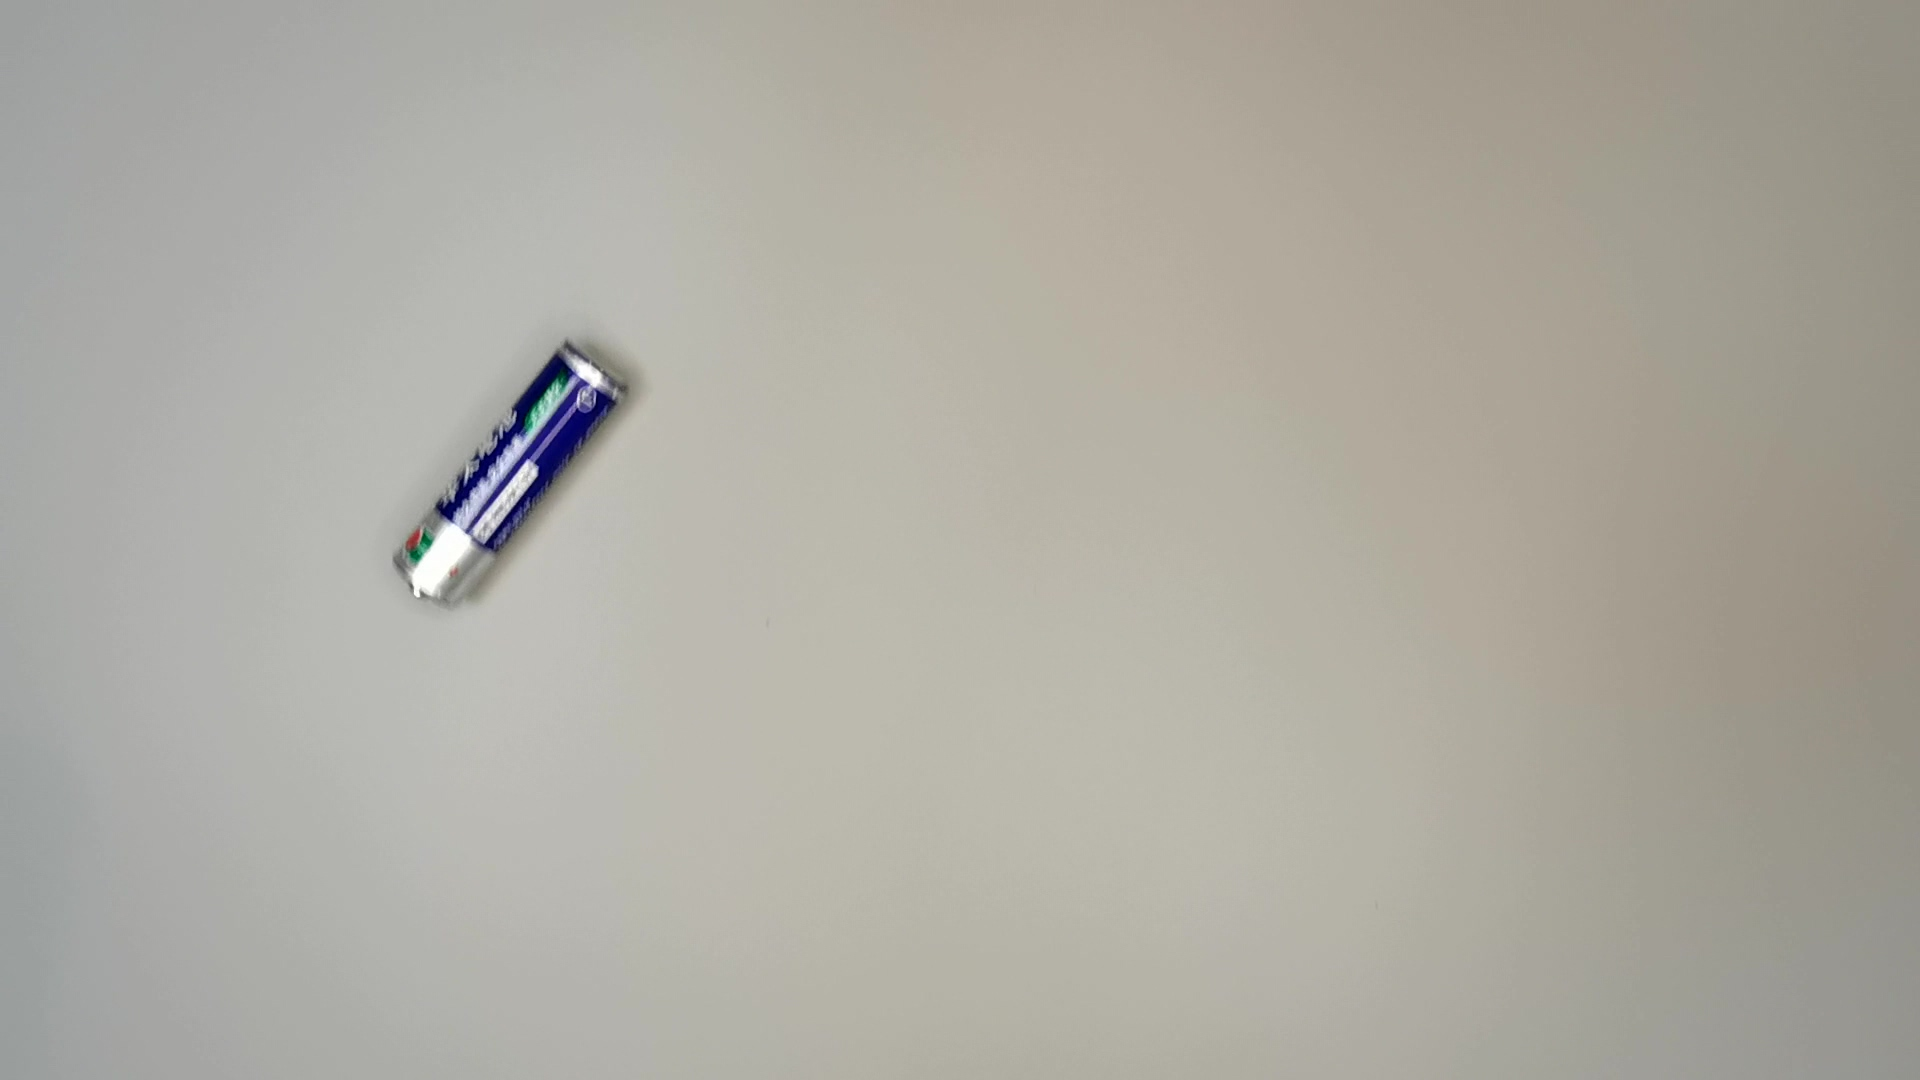battery: (388, 330, 644, 620)
